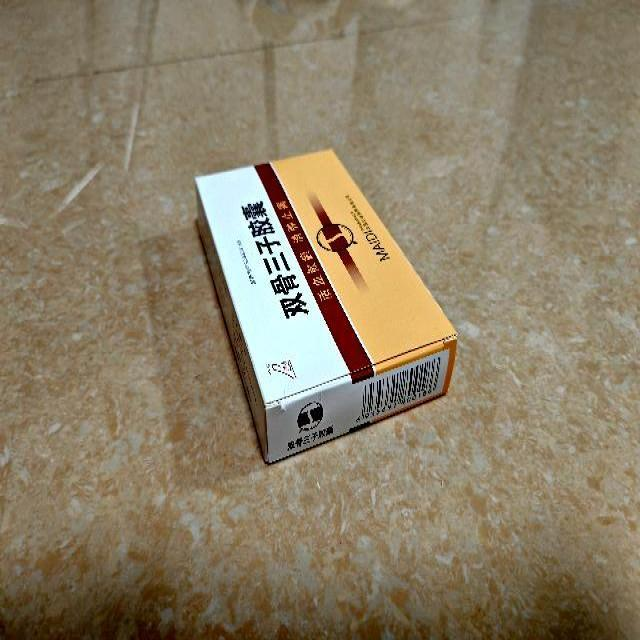box: (197, 147, 458, 466)
